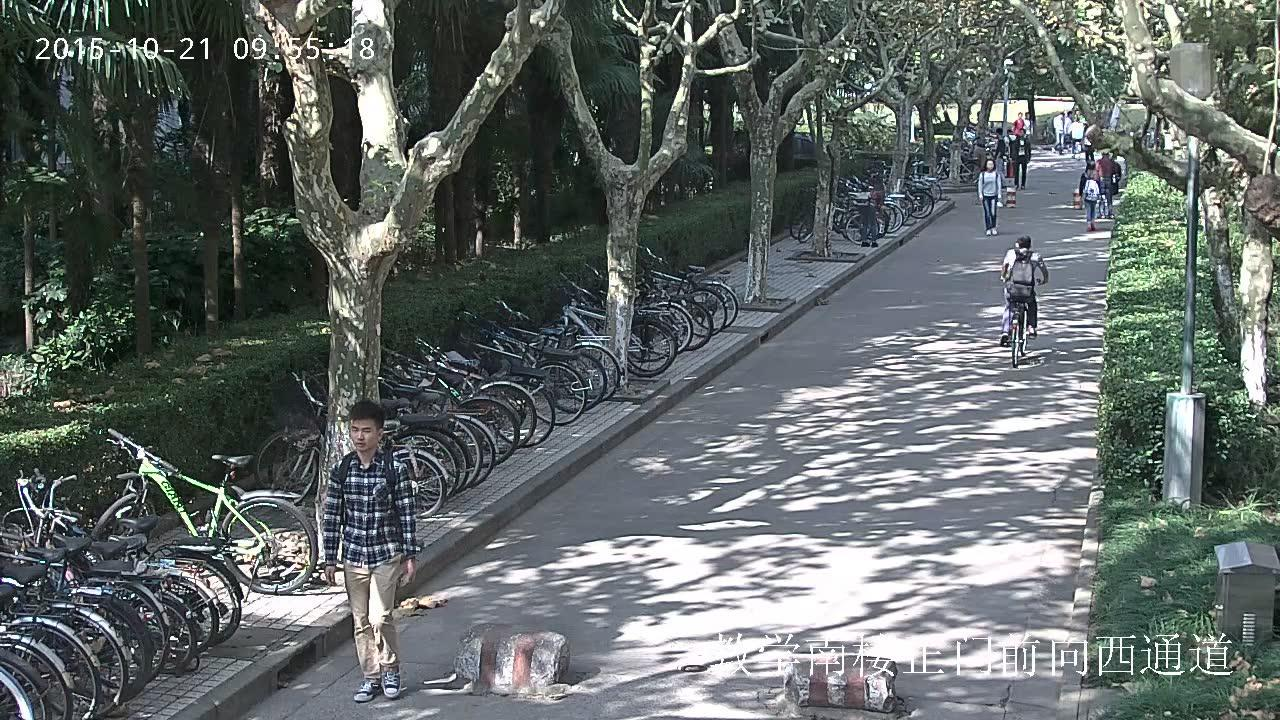person: (321, 399, 417, 703), (1000, 235, 1049, 368), (1000, 235, 1049, 347), (977, 158, 1001, 235), (855, 179, 880, 247), (1095, 152, 1120, 218), (1079, 160, 1100, 231), (1011, 128, 1031, 190), (993, 127, 1006, 183), (1083, 123, 1098, 166), (1068, 117, 1083, 157), (1051, 111, 1064, 155), (1063, 110, 1074, 149), (1012, 112, 1024, 138), (1024, 111, 1032, 141)
